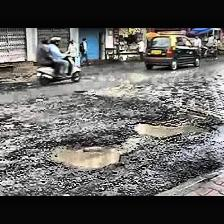pothole: (50, 140, 124, 168), (128, 120, 216, 136)
